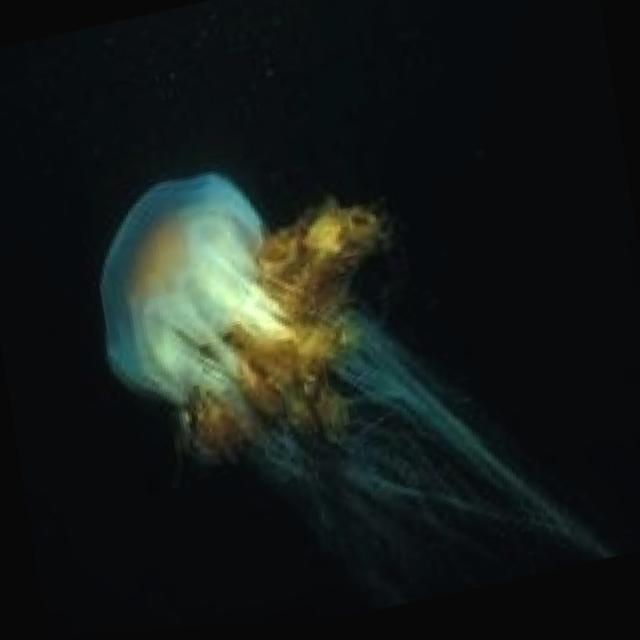Moon-jellyfish: (75, 88, 640, 636)
